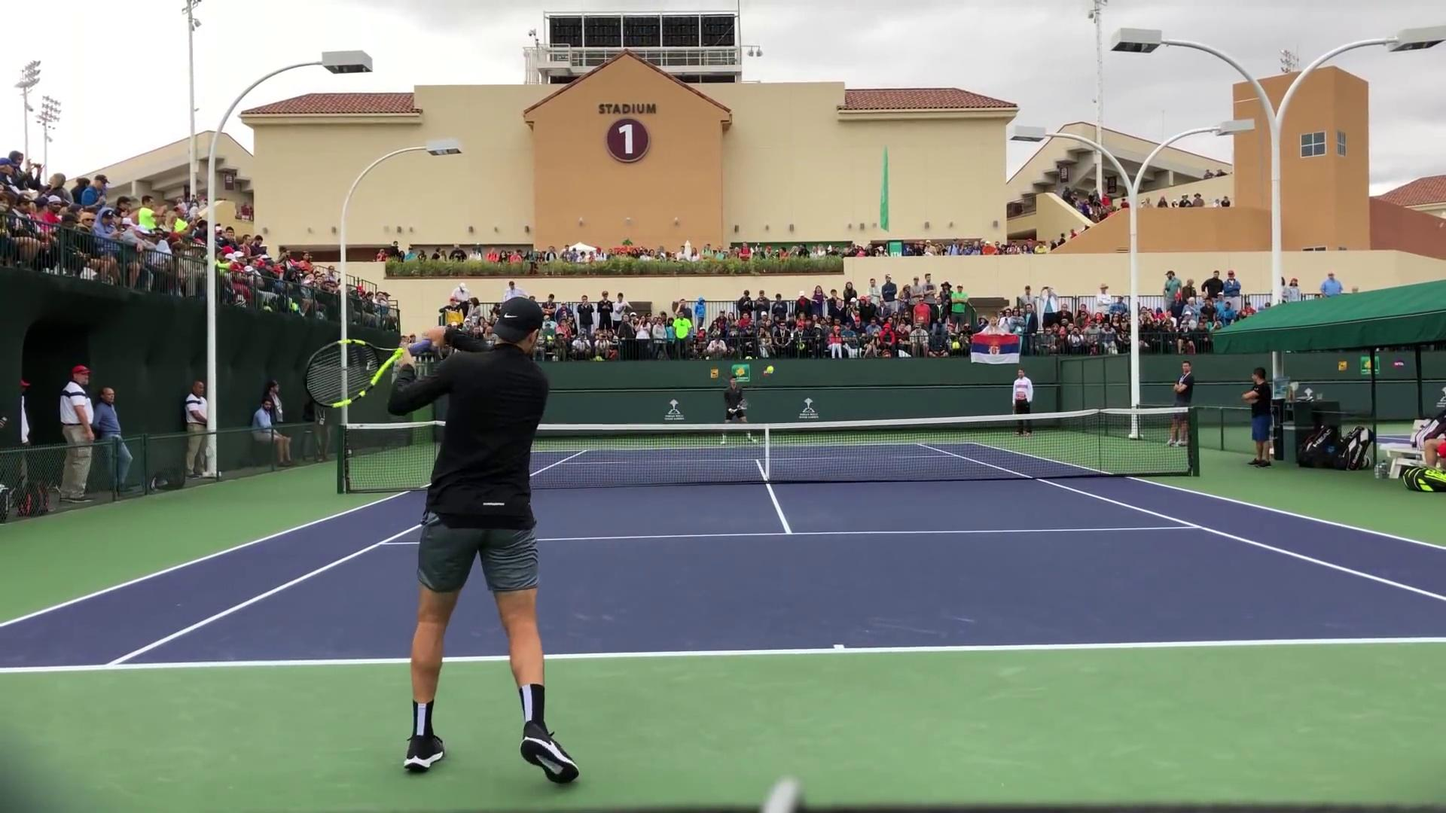ball: (764, 365, 776, 374)
